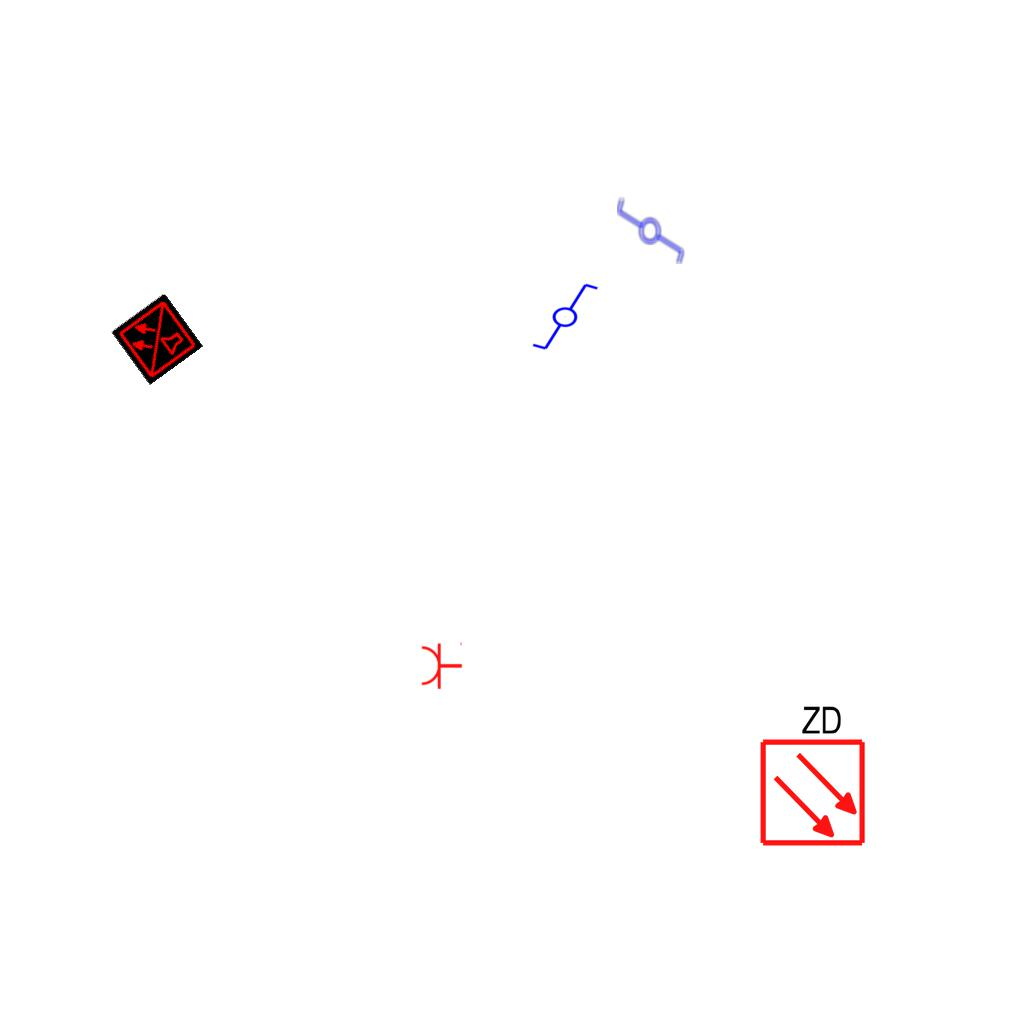OKW_Multisensormelder_(Kombination_optischer_Rauch-Kahlenmonoxid_Waerme-Melder): (110, 292, 204, 386)
Schukosteckdose_einfach: (420, 640, 463, 690)
Wechselschalter: (615, 188, 687, 266), (522, 280, 600, 352)
ZD_Melder_in_Zwischendecke_mit_Revisionsoeffnung_mind_40_x_40_cm: (754, 699, 868, 848)
